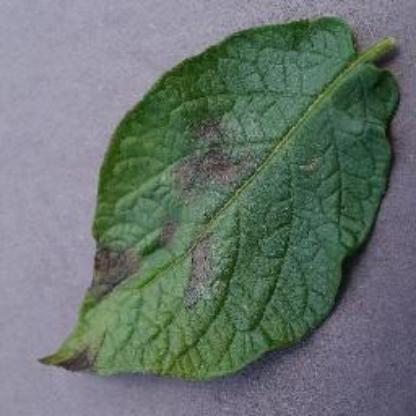Late-Blight: (41, 9, 415, 402)
